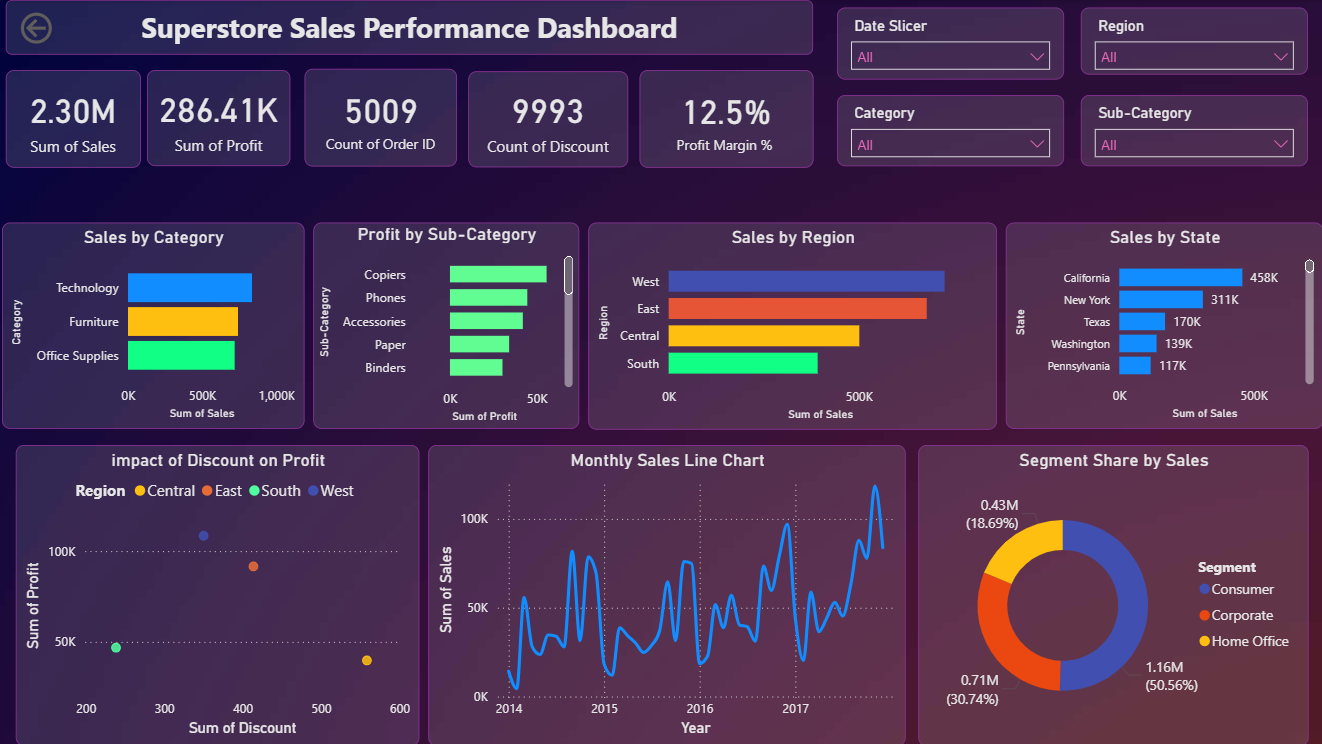

The dashboard page shown, as its layout file describes it:
{"tool":"powerbi","page":{"name":"Page 1","canvas":[1280,720],"ordinal":0},"visuals":[{"type":"textbox","box":[8.4,0,779.4,53.1],"z":0},{"type":"lineChart","title":"Monthly Sales Line Chart","fields":{"Y":["Sum(Cleaned_Superstore_Sales.Sales)"],"Category":["Cleaned_Superstore_Sales.Order Date.Variation.Date Hierarchy.Year","Cleaned_Superstore_Sales.Order Date.Variation.Date Hierarchy.Month"]},"box":[416.2,429.5,460.9,290.8],"z":1000},{"type":"barChart","title":"Sales by Category","fields":{"Category":["Cleaned_Superstore_Sales.Category"],"Y":["Sum(Cleaned_Superstore_Sales.Sales)"]},"box":[4.8,214.7,292,199.1],"z":2000},{"type":"barChart","title":"Profit by Sub-Category","fields":{"Category":["Cleaned_Superstore_Sales.Sub-Category"],"Y":["Sum(Cleaned_Superstore_Sales.Profit)"]},"box":[305.2,214.7,257,199.1],"z":3000},{"type":"donutChart","title":"Segment Share by Sales","fields":{"Category":["Cleaned_Superstore_Sales.Segment"],"Y":["Sum(Cleaned_Superstore_Sales.Sales)"]},"box":[889.1,429.5,376.4,290.8],"z":4000},{"type":"barChart","title":"Sales by Region","fields":{"Y":["Sum(Cleaned_Superstore_Sales.Sales)"],"Category":["Cleaned_Superstore_Sales.Region"]},"box":[570.6,214.7,394.5,200.3],"z":5000},{"type":"barChart","title":"Sales by State","fields":{"Y":["Sum(Cleaned_Superstore_Sales.Sales)"],"Category":["Cleaned_Superstore_Sales.State"]},"box":[973.6,214.7,306.4,199.1],"z":6000},{"type":"scatterChart","title":"impact of Discount on Profit","fields":{"X":["Sum(Cleaned_Superstore_Sales.Discount)"],"Y":["Sum(Cleaned_Superstore_Sales.Profit)"],"Series":["Cleaned_Superstore_Sales.Region"]},"box":[18.1,429.5,389.7,290.8],"z":7000},{"type":"actionButton","box":[18.1,7.2,100.1,39.8],"z":8000},{"type":"card","title":"Segment Share","fields":{"Values":["Sum(Cleaned_Superstore_Sales.Sales)"]},"box":[8.4,67.6,130.3,94.1],"z":9000},{"type":"card","title":"Segment Share","fields":{"Values":["Sum(Cleaned_Superstore_Sales.Profit)"]},"box":[144.8,67.6,138.7,92.9],"z":10000},{"type":"card","title":"Segment Share","fields":{"Values":["CountNonNull(Cleaned_Superstore_Sales.Discount)"]},"box":[454.8,68.8,154.4,92.9],"z":11000},{"type":"card","title":"Segment Share","fields":{"Values":["Count(Cleaned_Superstore_Sales.Order ID)"]},"box":[296.8,66.4,147.2,94.1],"z":12000},{"type":"slicer","title":"Segment Share","fields":{"Values":["Cleaned_Superstore_Sales.Order Date"]},"box":[810.7,7.2,219.6,70],"z":13000},{"type":"slicer","title":"Segment Share","fields":{"Values":["Cleaned_Superstore_Sales.Category"]},"box":[810.7,91.7,219.6,68.8],"z":14000},{"type":"slicer","title":"Segment Share","fields":{"Values":["Cleaned_Superstore_Sales.Sub-Category"]},"box":[1046,91.7,219.6,68.8],"z":15000},{"type":"slicer","title":"Segment Share","fields":{"Values":["Cleaned_Superstore_Sales.Region"]},"box":[1046,7.2,219.6,65.1],"z":16000},{"type":"card","title":"Segment Share","fields":{"Values":["Cleaned_Superstore_Sales.Profit Margin % (Measure)"]},"box":[620.1,67.6,167.7,94.1],"z":17000}]}

Visuals, with their boxes in screenshot pixels (x1, y1, x2, y2), scaled from the page's 1280x720 canvas onto the 1322x744 screenshot:
textbox: 9, 0, 814, 55
"Monthly Sales Line Chart" lineChart: 430, 444, 906, 743
"Sales by Category" barChart: 5, 222, 307, 428
"Profit by Sub-Category" barChart: 315, 222, 581, 428
"Segment Share by Sales" donutChart: 918, 444, 1307, 743
"Sales by Region" barChart: 589, 222, 997, 429
"Sales by State" barChart: 1006, 222, 1321, 428
"impact of Discount on Profit" scatterChart: 19, 444, 421, 743
actionButton: 19, 7, 122, 49
"Segment Share" card: 9, 70, 143, 167
"Segment Share" card: 150, 70, 293, 166
"Segment Share" card: 470, 71, 629, 167
"Segment Share" card: 307, 69, 459, 166
"Segment Share" slicer: 837, 7, 1064, 80
"Segment Share" slicer: 837, 95, 1064, 166
"Segment Share" slicer: 1080, 95, 1307, 166
"Segment Share" slicer: 1080, 7, 1307, 75
"Segment Share" card: 640, 70, 814, 167
